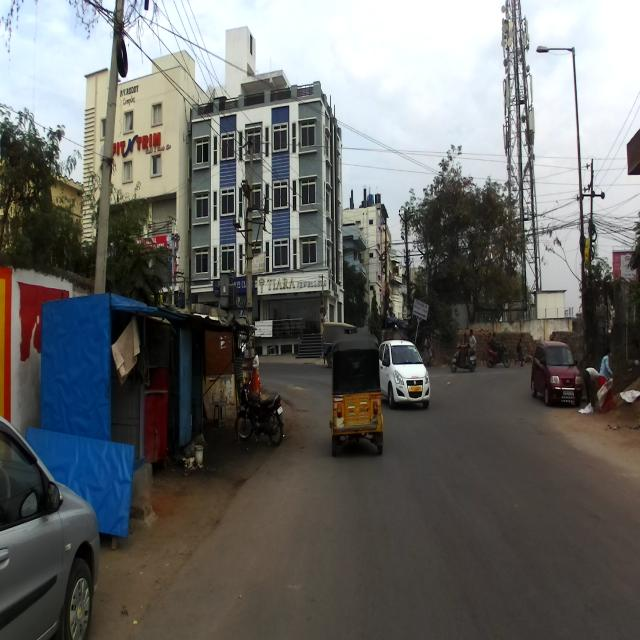auto ahead at: (325, 330, 387, 450)
car ahead at: (0, 407, 100, 640), (532, 334, 583, 402), (385, 342, 431, 412)
motorcycle ahead at: (235, 376, 285, 452)
